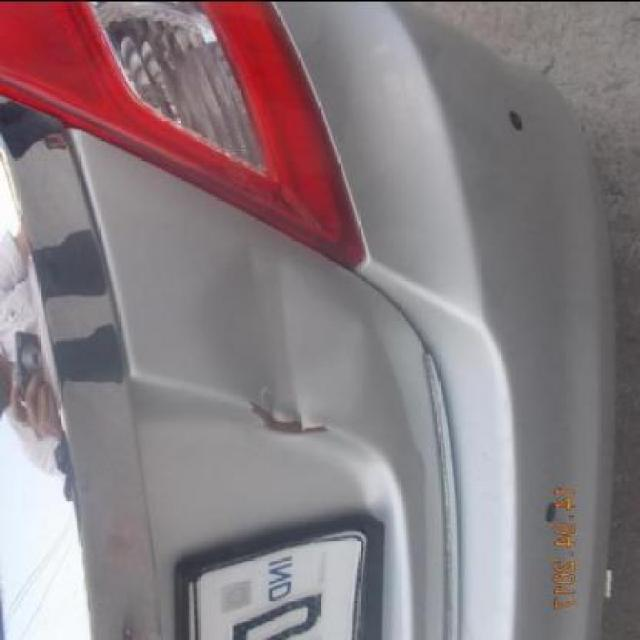damage: (205, 248, 360, 431), (246, 399, 328, 440)
